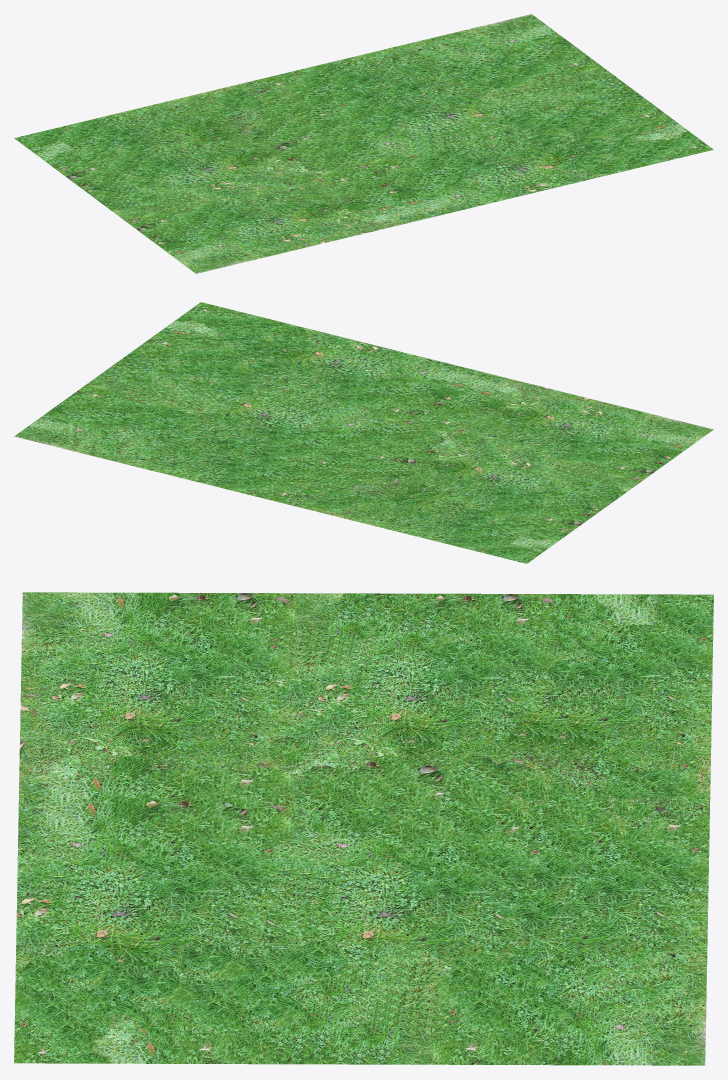
File: GRASS FLOOR.fbx
3 renders of one model, top to bottom at view 1: azimuth 30°, elevation 25°; view 2: azimuth 150°, elevation 25°; view 3: azimuth 270°, elevation 25°, orthographic. The views are drawn at different scales.
Parts seen in each view (by area): view 1: pPlane1; view 2: pPlane1; view 3: pPlane1.
Part boxes in pixels (bbox=[...]): pPlane1: bbox=[14, 14, 713, 273]; pPlane1: bbox=[14, 302, 713, 563]; pPlane1: bbox=[14, 592, 713, 1065].
Size of the model in its own units: 21.87 by 2.95e-15 by 13.67.
Materials: 1 (1 with a texture image).
